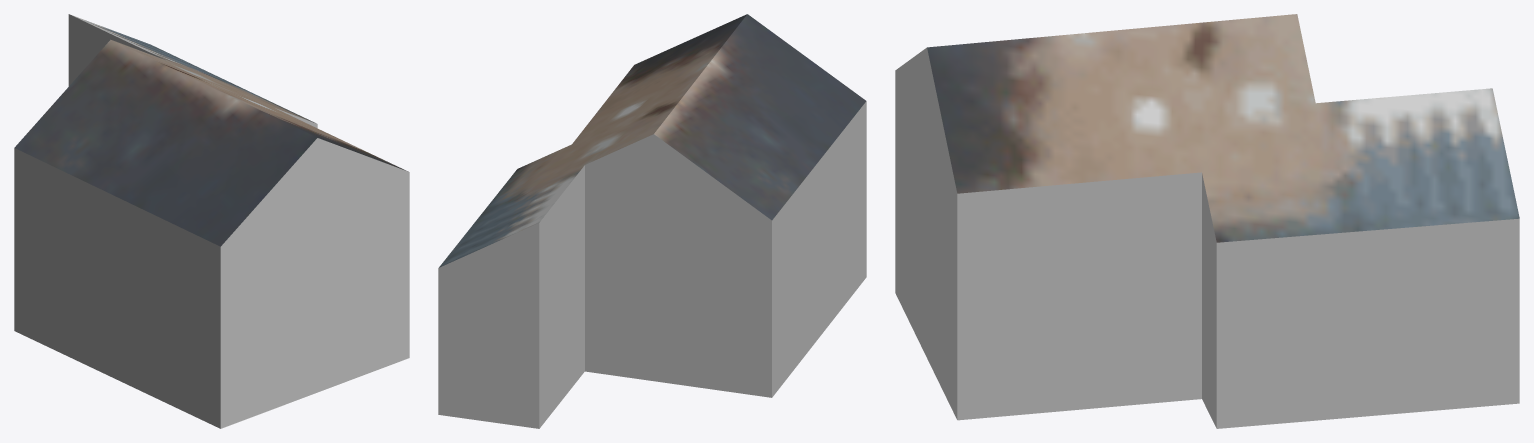
File: DEBW_0010007TxeJ.gltf
3 views of the same model, side by side, from view 1: azimuth 30°, elevation 25°; view 2: azimuth 150°, elevation 25°; view 3: azimuth 270°, elevation 25° (orthographic). The views are drawn at different scales.
Visible parts, largest first — view 1: Z_UP; view 2: Z_UP; view 3: Z_UP.
Part boxes in pixels (x1,y1,x2,y2): Z_UP: (14,14,409,428); Z_UP: (438,14,866,428); Z_UP: (895,14,1519,428).
Size of the model in its own units: 11.61 by 10 by 18.18.
Materials: 2 (1 with a texture image).
